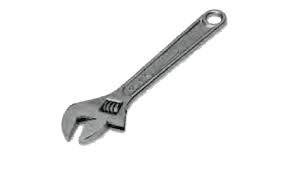wrench: (60, 7, 227, 145)
